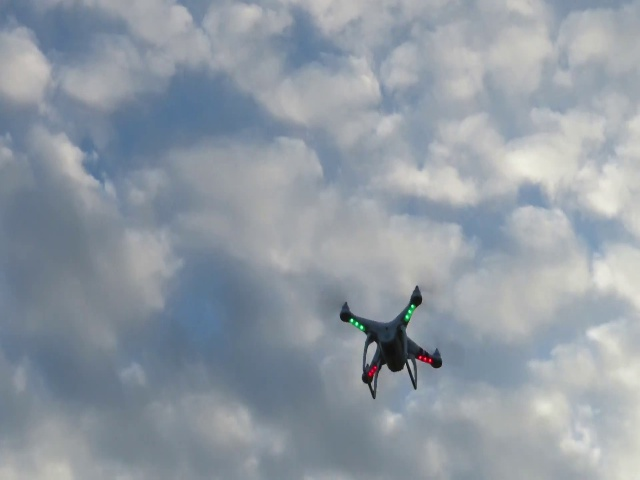drone: (325, 272, 455, 400)
